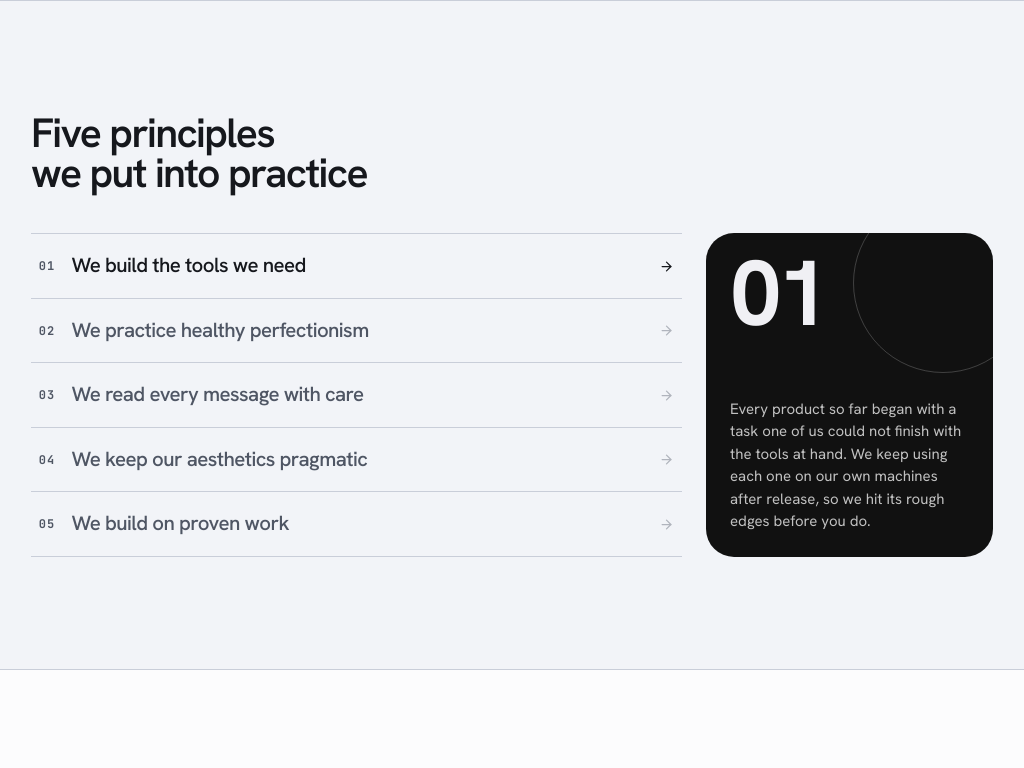
Test: Practices › follows the pointer
Hover over the tab "05 We build on proven work".
mouse_move(180, 523)  # box [31,491,682,557]
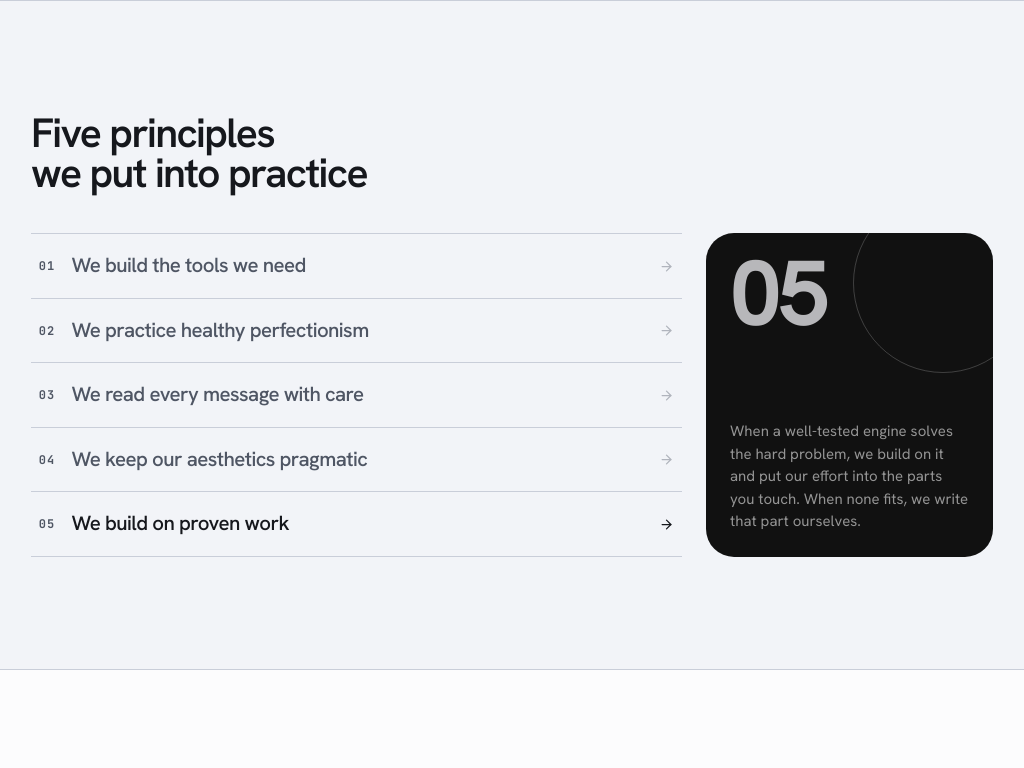
Result: the panel shows "put our effort into the parts you touch" at [730,422,968,532]
Result: the panel shows "05" at [730,233,826,353]
